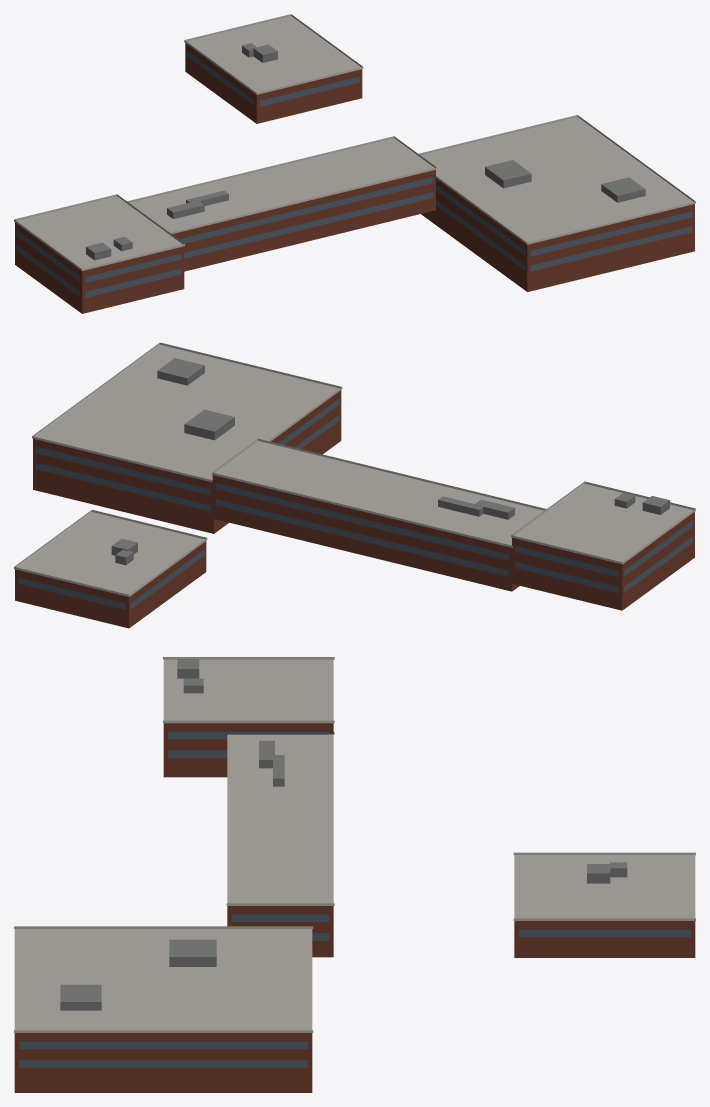
Rendered from uams-campus-1985.glb.
3 renders of one model, top to bottom at view 1: azimuth 30°, elevation 25°; view 2: azimuth 150°, elevation 25°; view 3: azimuth 270°, elevation 25°, orthographic. The views are drawn at different scales.
Visible parts, largest first — view 1: uams_campus_1985; view 2: uams_campus_1985; view 3: uams_campus_1985.
Part boxes in pixels (x1,y1,x2,y2): uams_campus_1985: [14, 14, 695, 313]; uams_campus_1985: [14, 342, 695, 628]; uams_campus_1985: [14, 657, 695, 1092].
Size of the model in its own units: 152 by 21.51 by 128.
